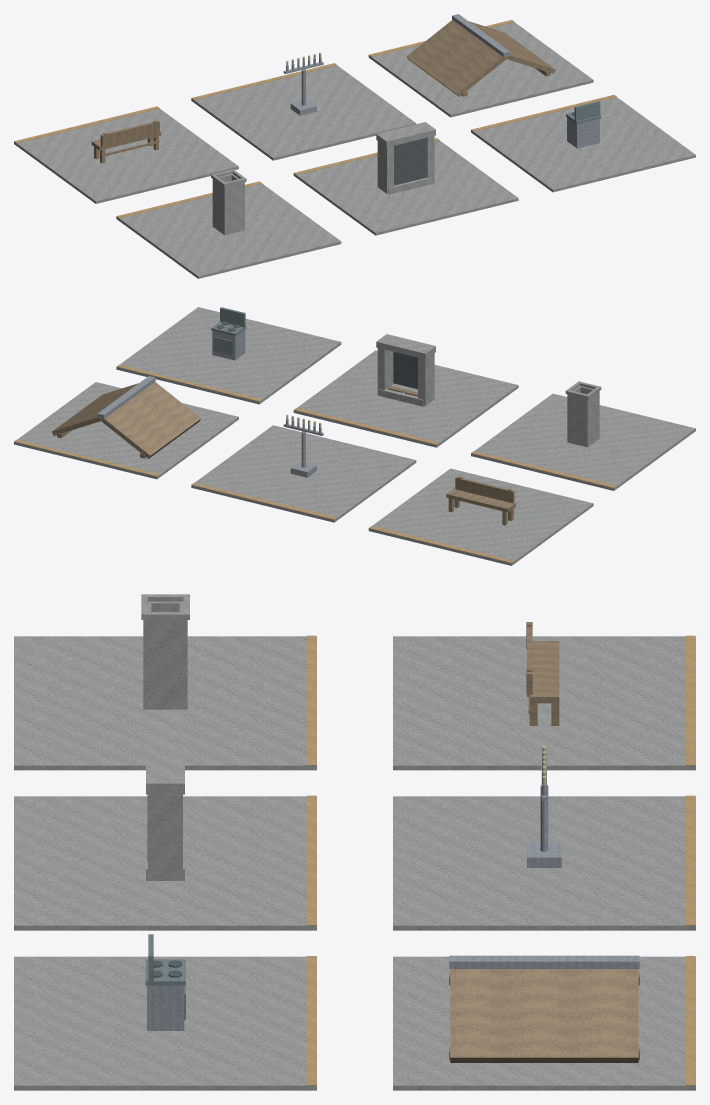
File: level_blockout_kit_mansion_p04.glb
The picture shows the model from 3 angles, top to bottom: view 1: azimuth 30°, elevation 25°; view 2: azimuth 150°, elevation 25°; view 3: azimuth 270°, elevation 25°; orthographic projection. The views are drawn at different scales.
Visible parts, largest first — view 1: level_blockout_kit_mansion_p04; view 2: level_blockout_kit_mansion_p04; view 3: level_blockout_kit_mansion_p04.
Part boxes in pixels (x1,y1,x2,y2): level_blockout_kit_mansion_p04: (14,14,695,278); level_blockout_kit_mansion_p04: (14,307,695,565); level_blockout_kit_mansion_p04: (14,594,695,1090).
Size of the model in its own units: 19.65 by 2.13 by 12.6.
Materials: 7 (7 with a texture image).
